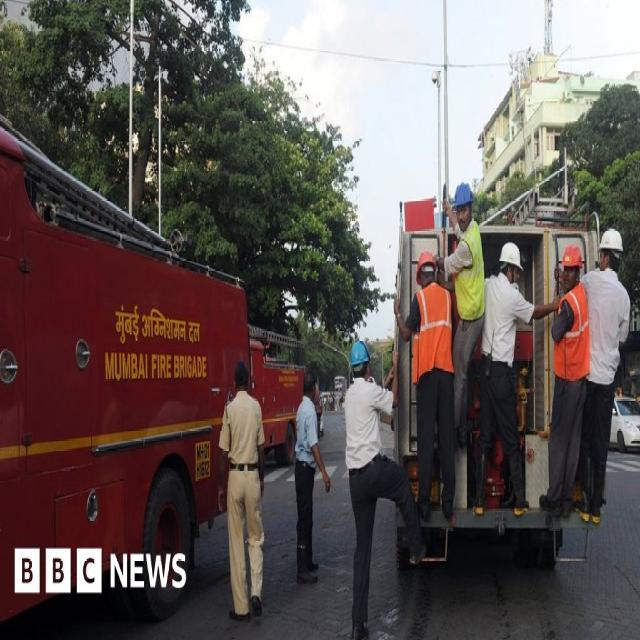emergency: (1, 118, 250, 621)
